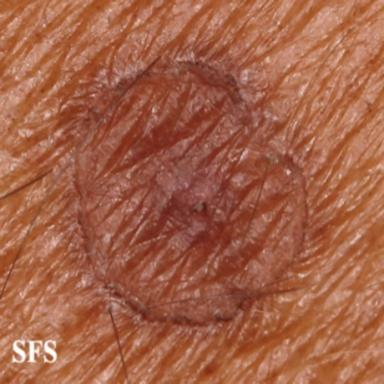Porokeratosis: (76, 53, 307, 323)
